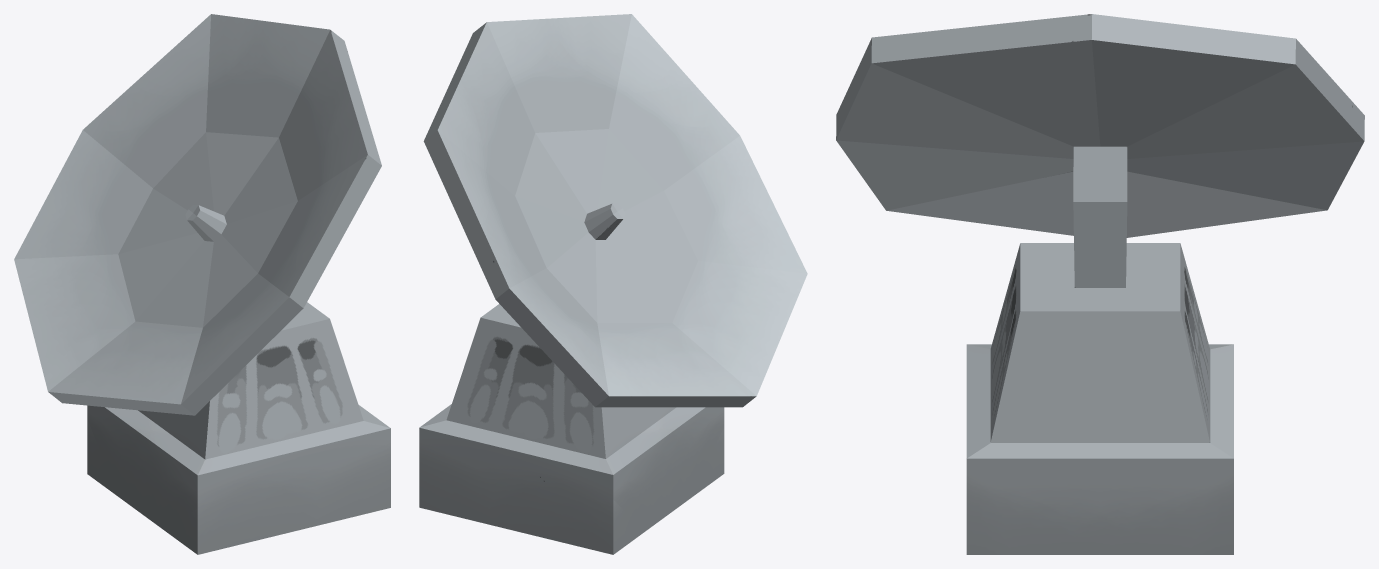
The model's file is antena.fbx.
3 renders of one model, left to right at view 1: azimuth 30°, elevation 25°; view 2: azimuth 150°, elevation 25°; view 3: azimuth 270°, elevation 25°, orthographic. The views are drawn at different scales.
Visible parts, largest first — view 1: Cube; view 2: Cube; view 3: Cube.
Boxes of the visible parts, left/top/right/bottom form: Cube: left=14, top=14, right=390, bottom=554; Cube: left=419, top=14, right=807, bottom=554; Cube: left=836, top=14, right=1364, bottom=554.
Bounding box in the file's own units: 401 × 585 × 523.
1 material, 1 textured.
